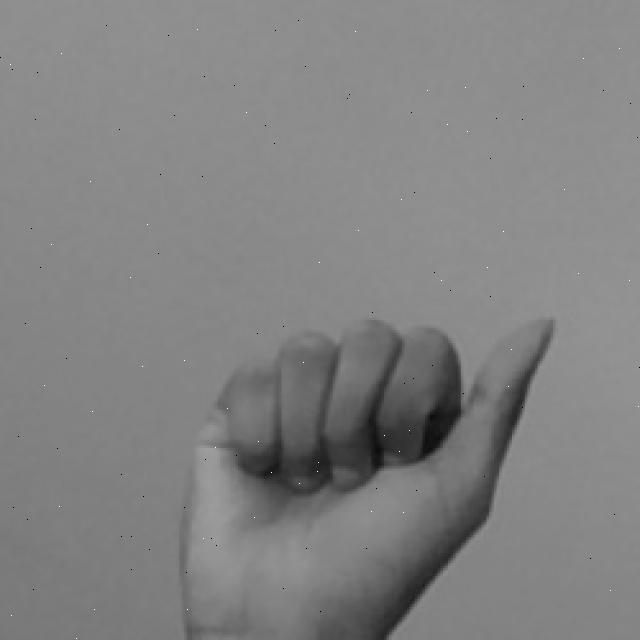A: (178, 307, 572, 640)
